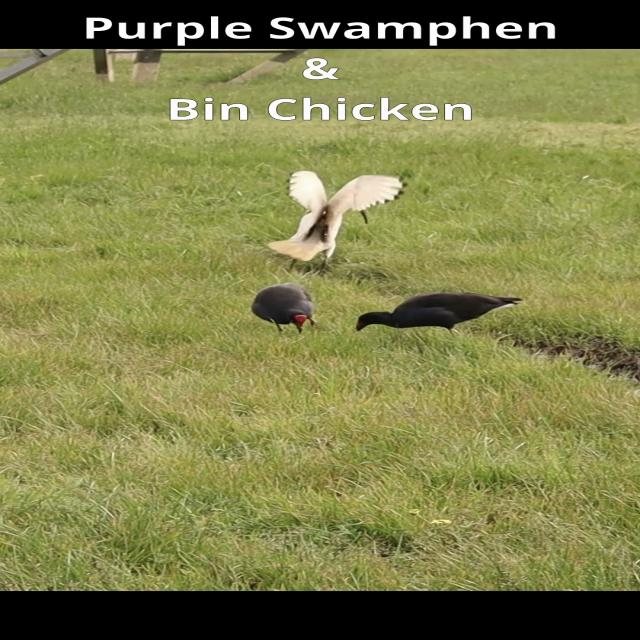Birds-Ibis: (264, 166, 406, 276)
